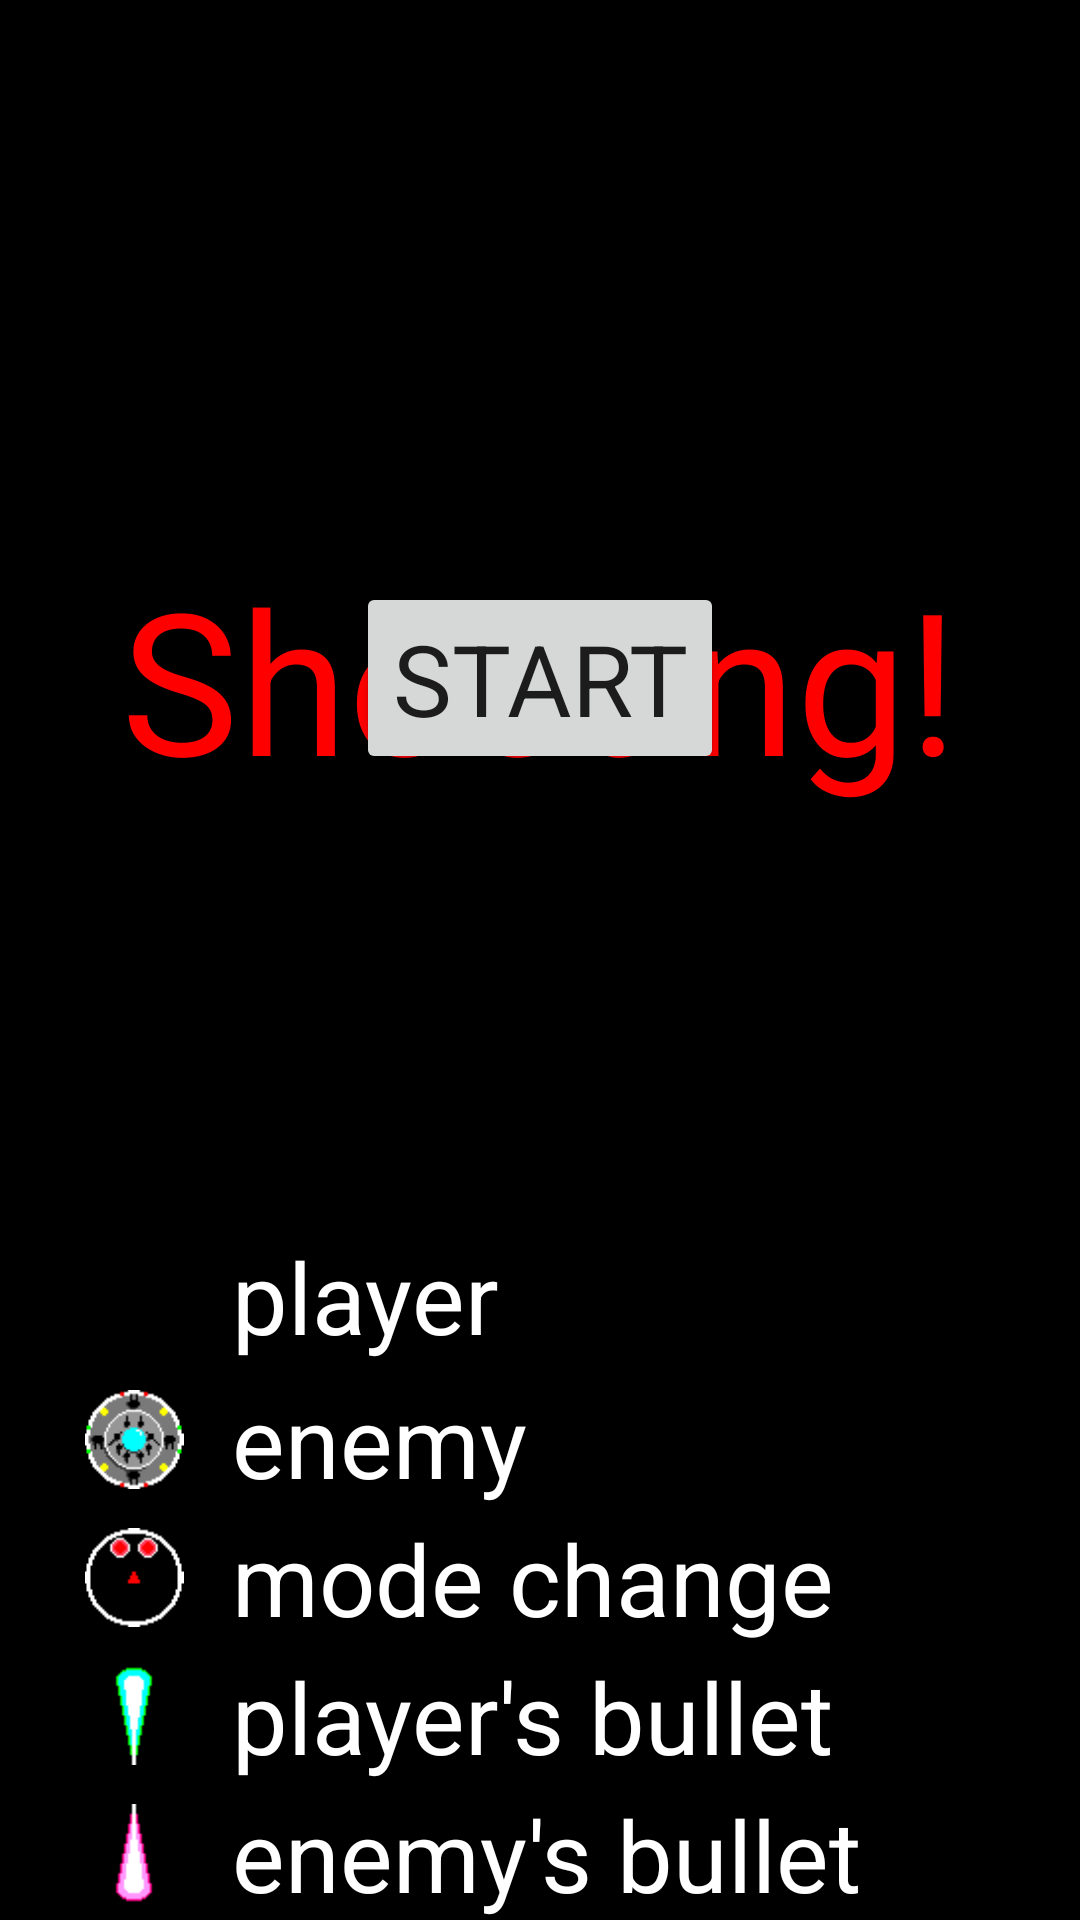

Icon bounding boxes for this 1080 × 1920 phone screenshot, format rect(x1, y1, x2, y2):
enemybullet: rect(115, 1804, 153, 1902)
